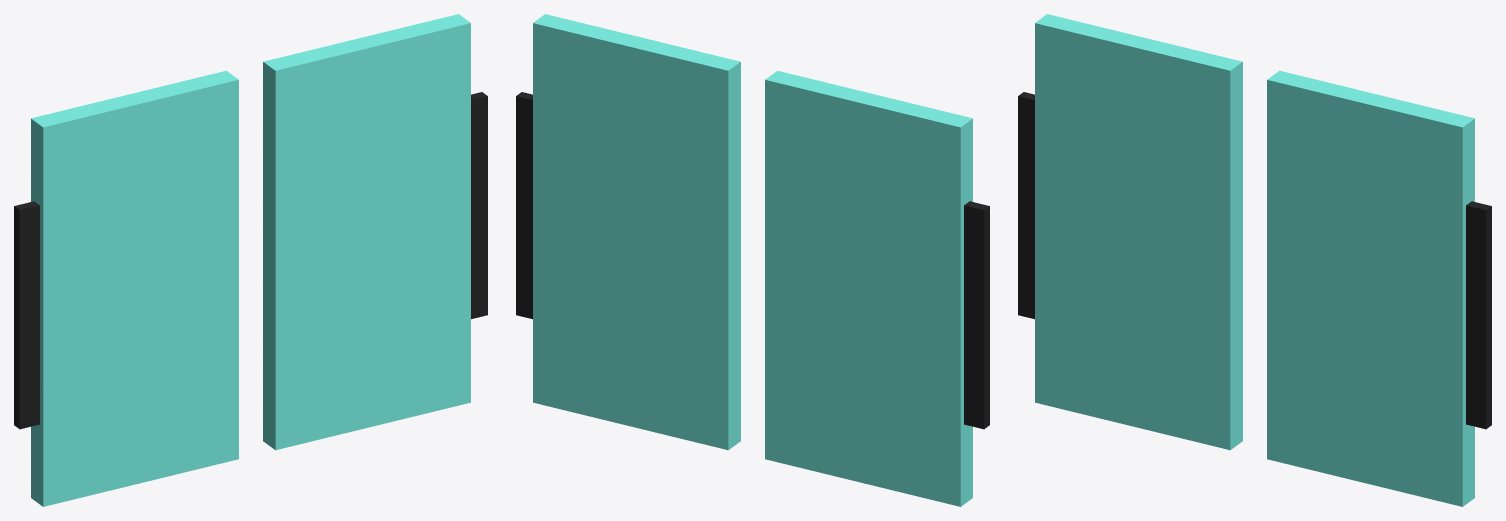
Rendered from ANIMACION MOLINETES.fbx.
The picture shows the model from 3 angles, left to right: view 1: azimuth 30°, elevation 25°; view 2: azimuth 150°, elevation 25°; view 3: azimuth 330°, elevation 25°; orthographic projection.
Parts seen in each view (by area): view 1: Cube__7__005, Cube__7__006, Cube__8__007, Cube__8__006; view 2: Cube__7__005, Cube__7__006, Cube__8__007, Cube__8__006; view 3: Cube__7__006, Cube__7__005, Cube__8__006, Cube__8__007.
Boxes of the visible parts, <box> form: Cube__7__005: <box>263,14,470,450</box>; Cube__7__006: <box>31,70,238,506</box>; Cube__8__007: <box>14,201,39,429</box>; Cube__8__006: <box>471,92,487,319</box>; Cube__7__005: <box>533,14,740,450</box>; Cube__7__006: <box>765,70,972,506</box>; Cube__8__007: <box>964,201,989,429</box>; Cube__8__006: <box>516,92,532,319</box>; Cube__7__006: <box>1035,14,1242,450</box>; Cube__7__005: <box>1267,70,1474,506</box>; Cube__8__006: <box>1466,201,1491,429</box>; Cube__8__007: <box>1018,92,1034,319</box>.
Bounding box in the file's own units: 48.33 × 37.45 × 2.22.
